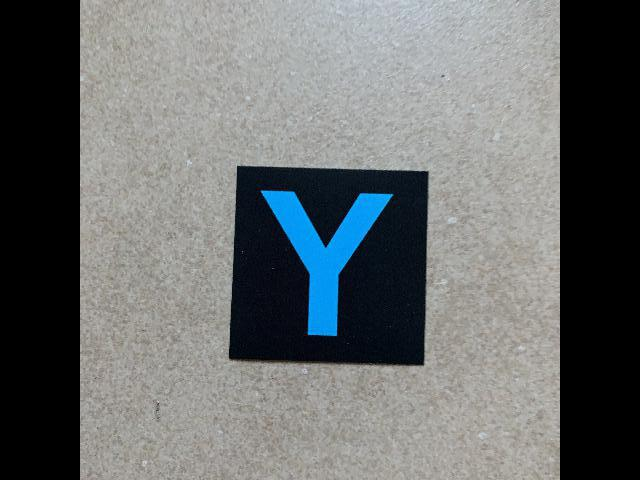alphabet_y: (228, 165, 431, 368)
